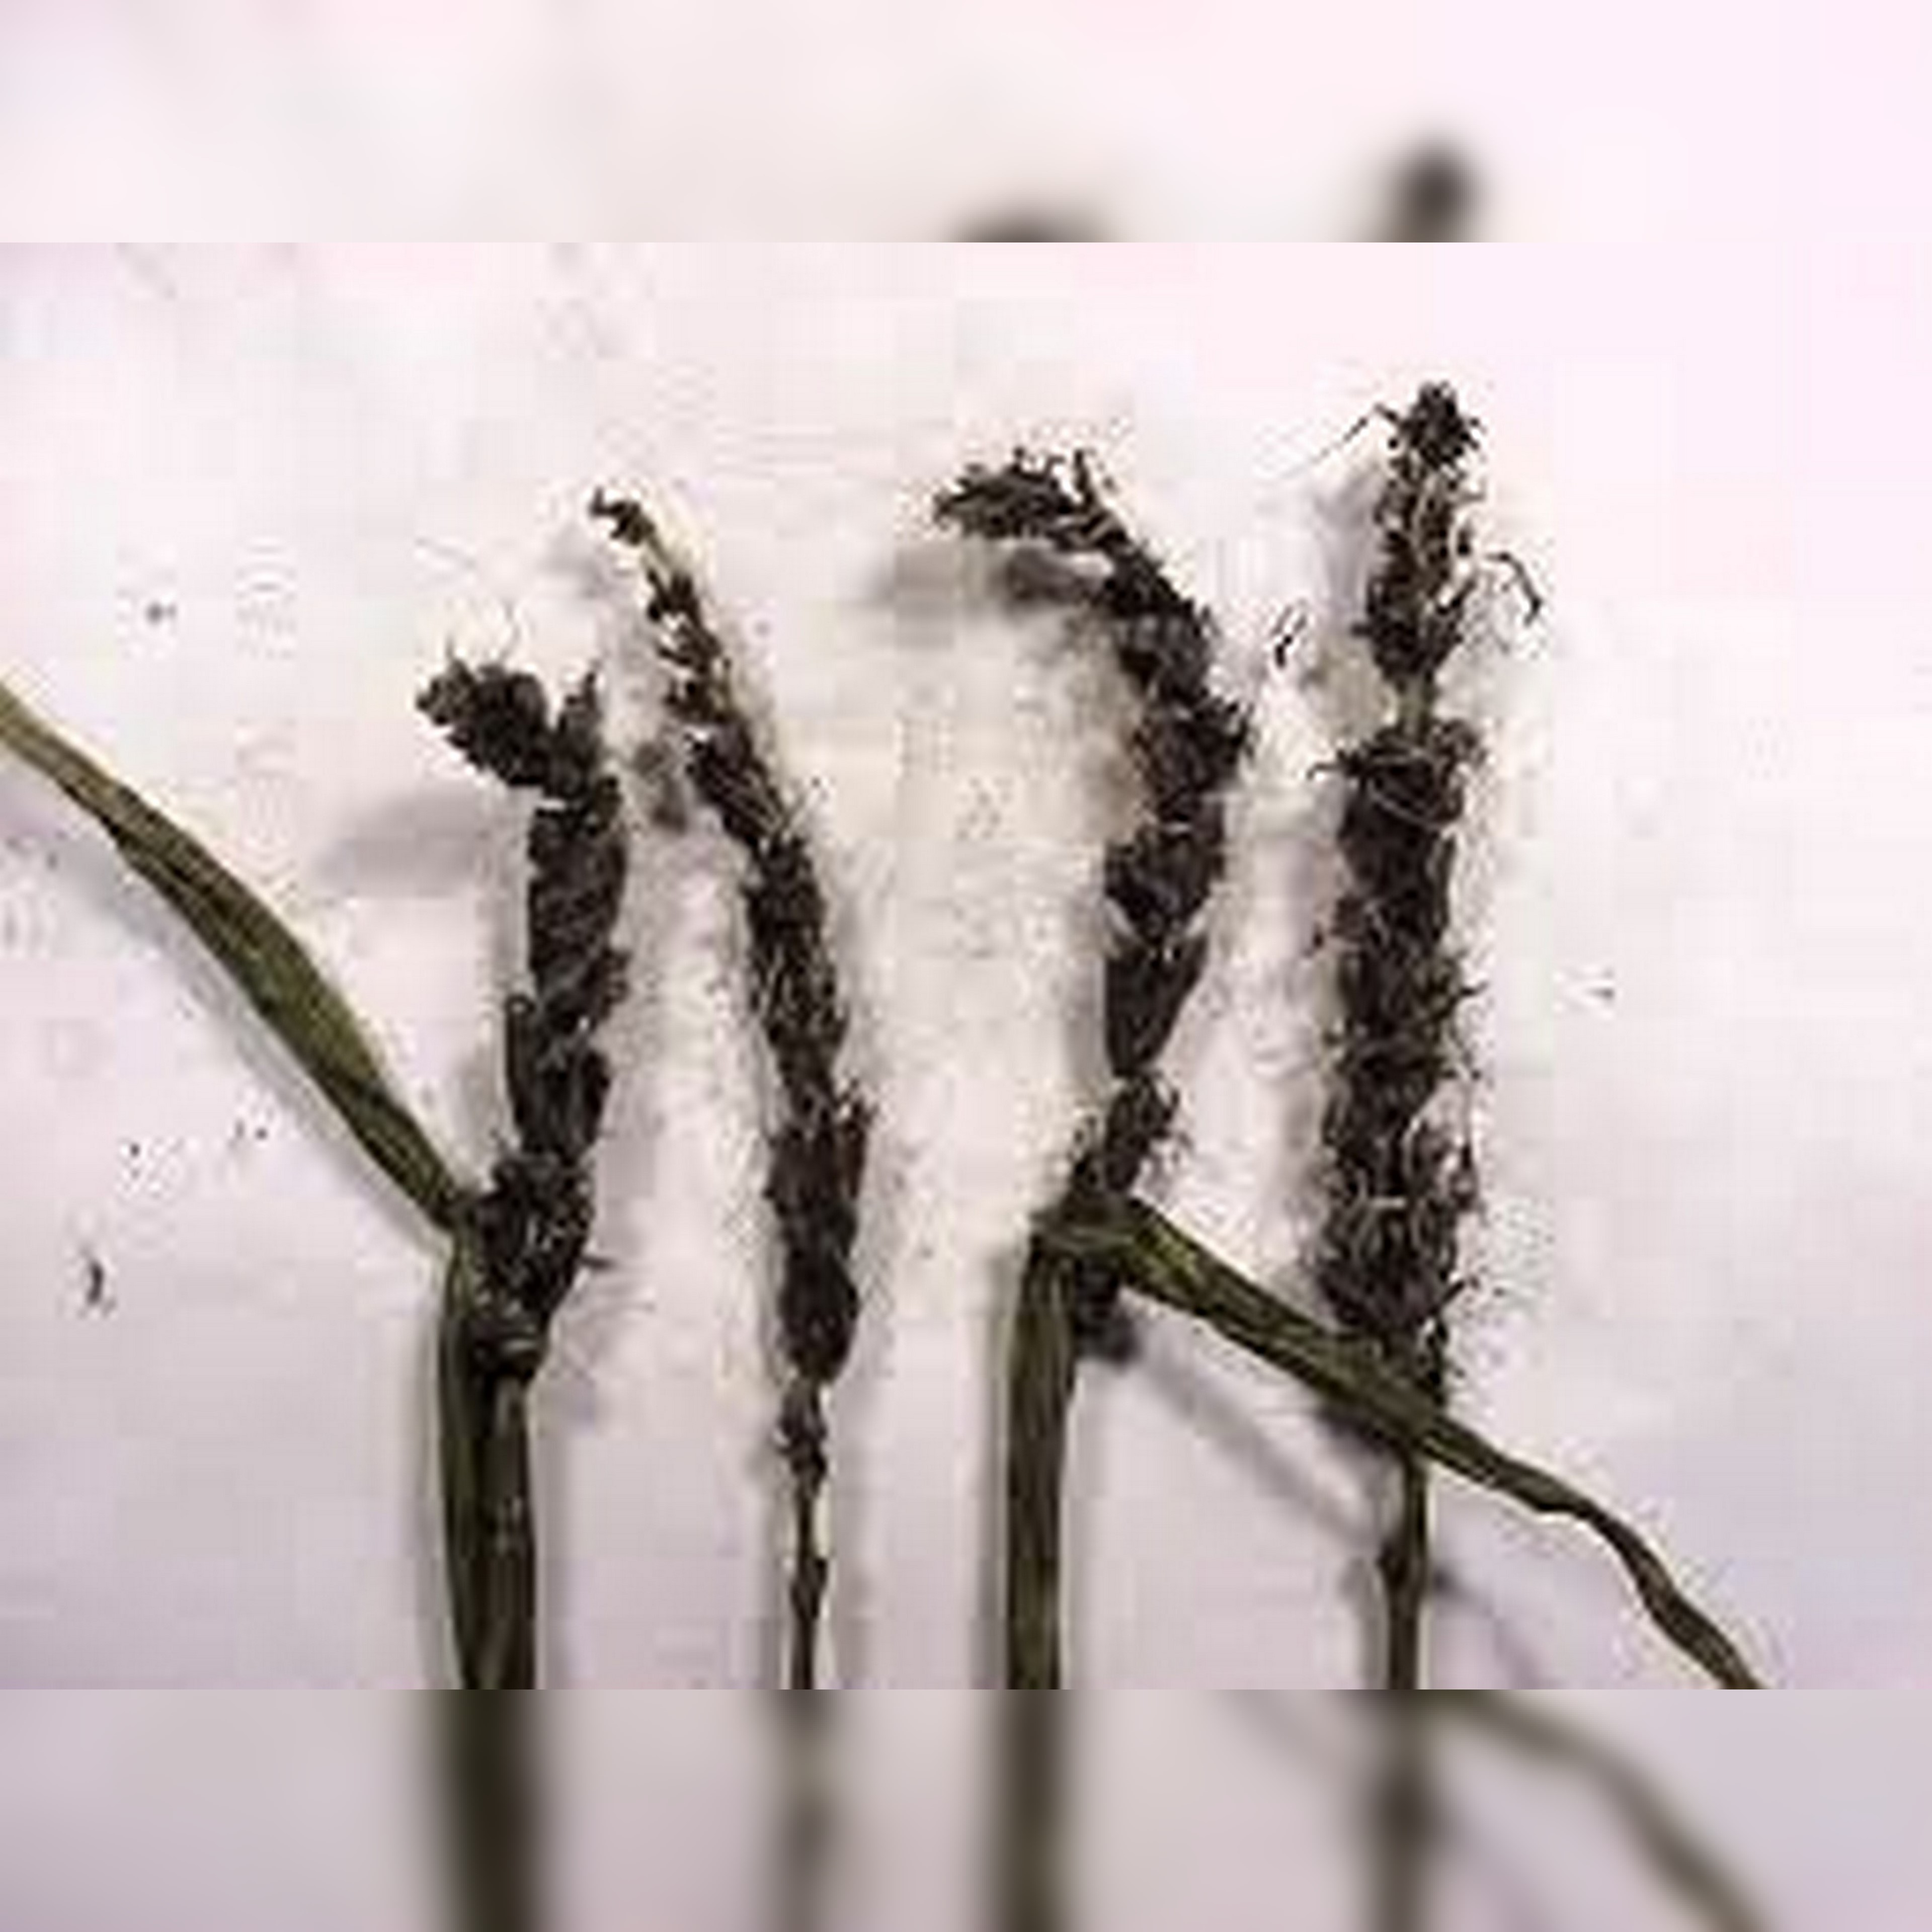Wheat Loose Smut: (386, 495, 968, 1467)
